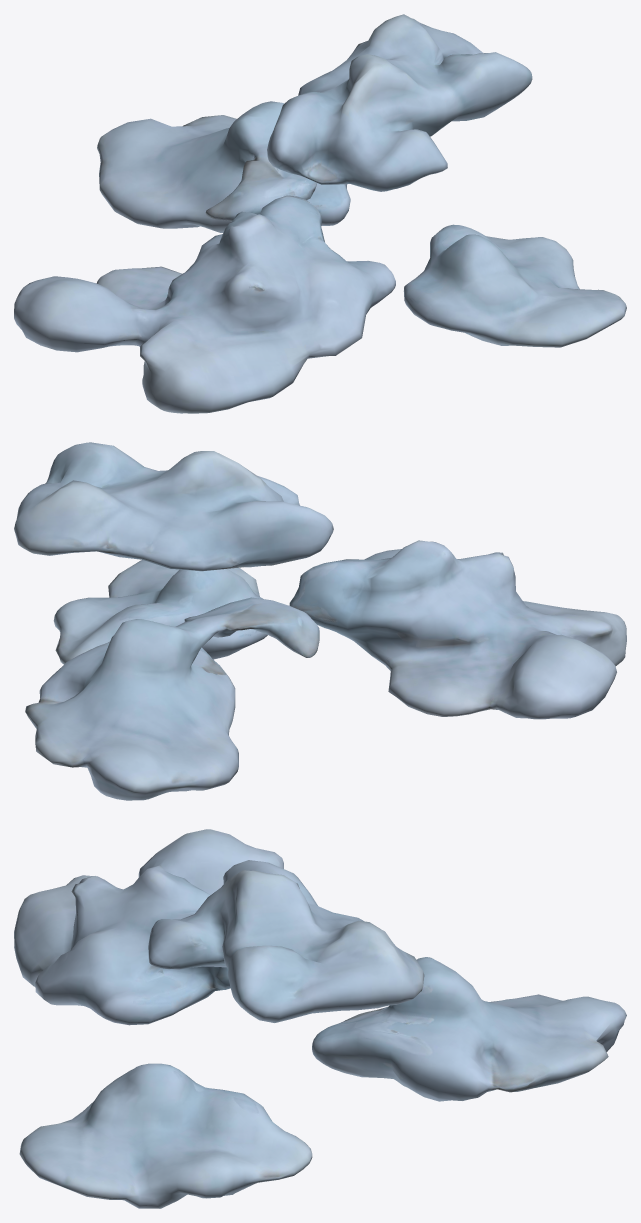
3 renders of one model, top to bottom at view 1: azimuth 30°, elevation 25°; view 2: azimuth 150°, elevation 25°; view 3: azimuth 270°, elevation 25°, orthographic. The views are drawn at different scales.
Parts seen in each view (by area): view 1: mesh; view 2: mesh; view 3: mesh.
Boxes of the visible parts, left/top/right/bottom form: mesh: left=14, top=14, right=626, bottom=413; mesh: left=14, top=442, right=626, bottom=800; mesh: left=14, top=829, right=626, bottom=1208.
Size of the model in its own units: 0.998 by 0.4425 by 0.9248.
1 material, 1 textured.
